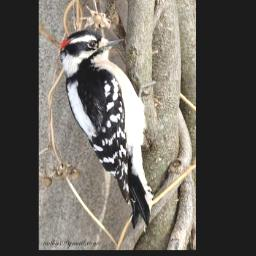Woodpecker: (60, 28, 155, 230)
